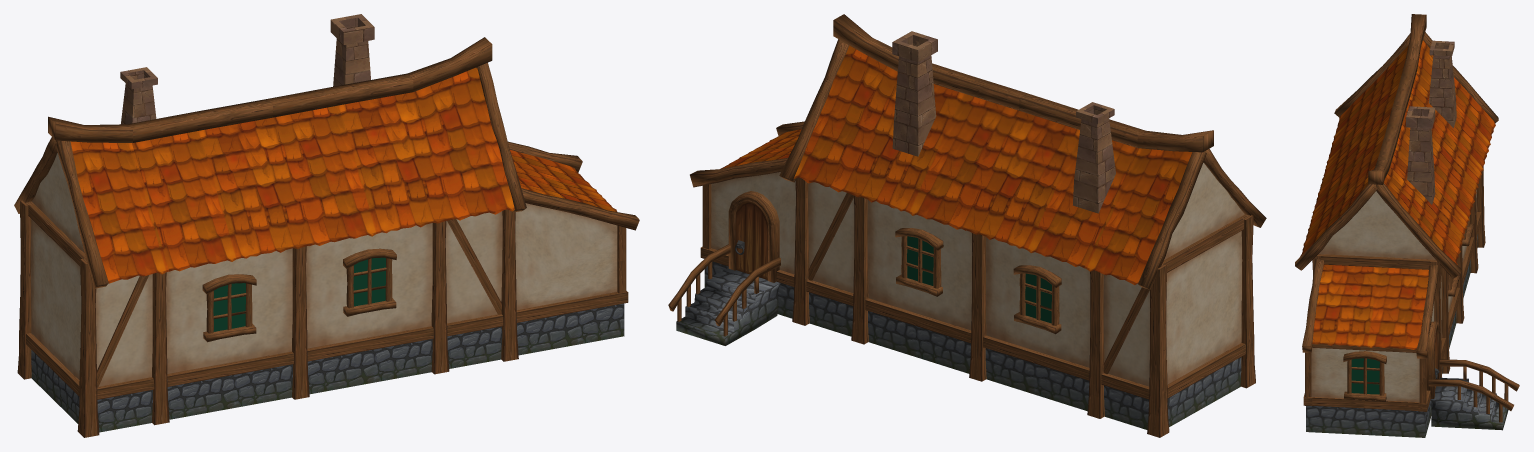
Rendered from SquareHouseB.obj.
The picture shows the model from 3 angles, left to right: view 1: azimuth 30°, elevation 25°; view 2: azimuth 150°, elevation 25°; view 3: azimuth 270°, elevation 25°; orthographic projection. The views are drawn at different scales.
Parts seen in each view (by area): view 1: RH3; view 2: RH3; view 3: RH3.
Part boxes in pixels (x1,y1,x2,y2): RH3: (14,14,639,437); RH3: (668,14,1266,437); RH3: (1295,14,1519,437).
Bounding box in the file's own units: 8.17 × 4.47 × 3.74.
3 materials, 2 textured.
